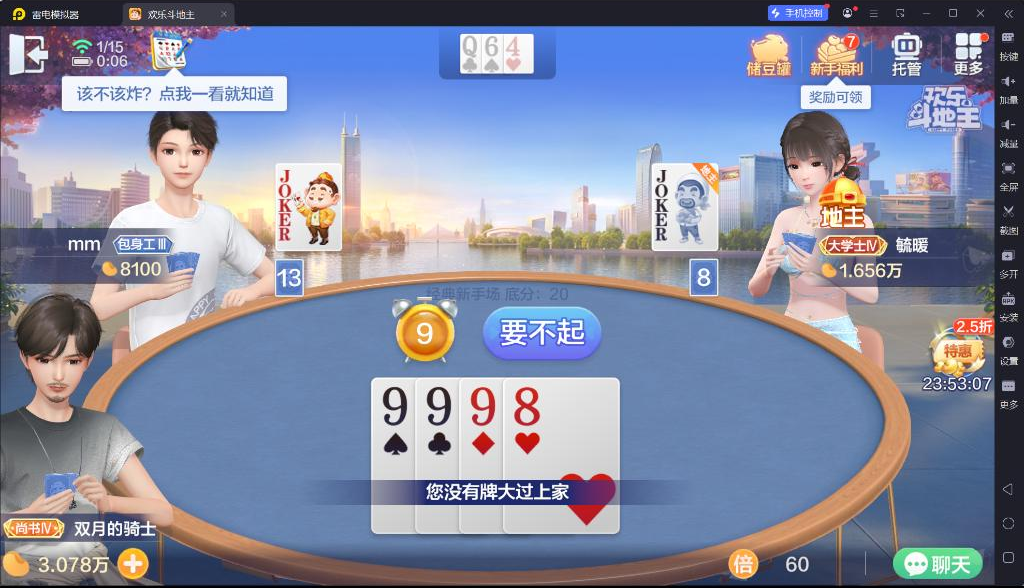JOKER: (276, 167, 293, 216)
Q: (462, 35, 479, 59)
eight: (510, 384, 542, 427)
four: (504, 35, 521, 58)
joker: (653, 168, 671, 215)
nine: (377, 383, 412, 428), (466, 383, 498, 429), (421, 384, 454, 427)
six: (483, 35, 501, 58)
